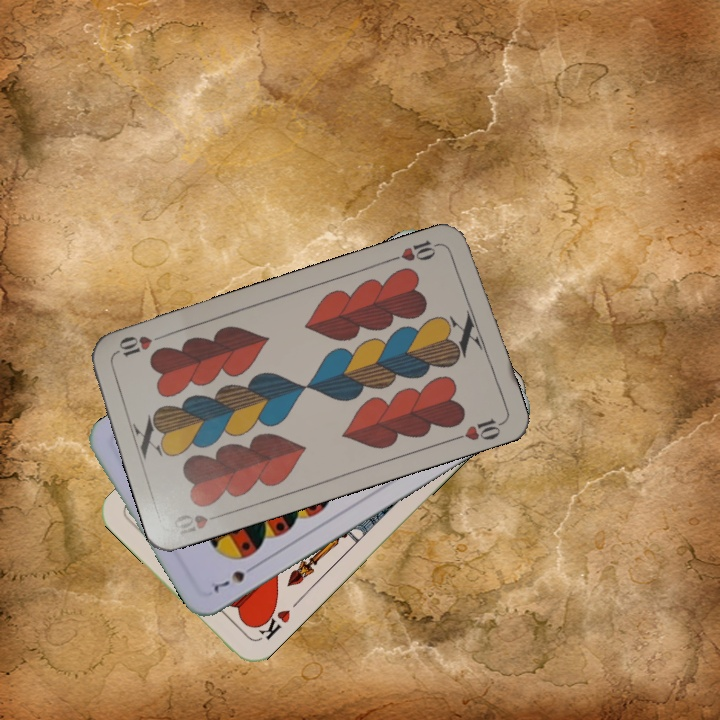H10: (169, 509, 228, 539), (387, 235, 446, 264)
HK: (250, 601, 293, 643)
S7: (209, 560, 260, 594)
